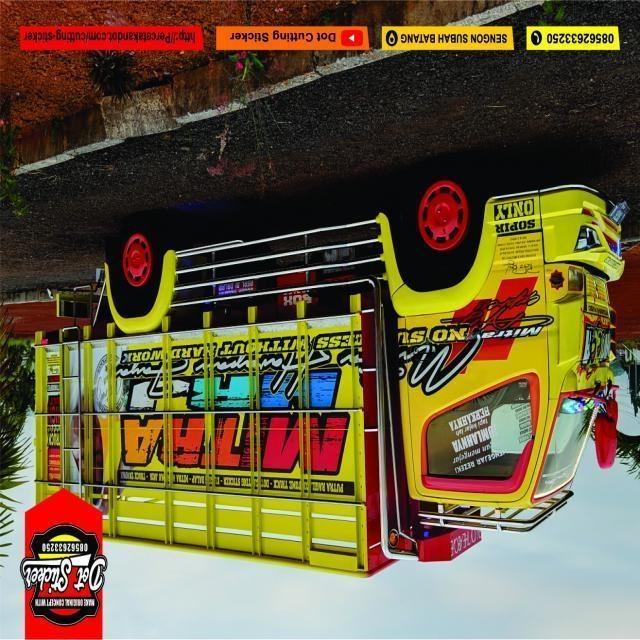Truck: (31, 175, 629, 576)
